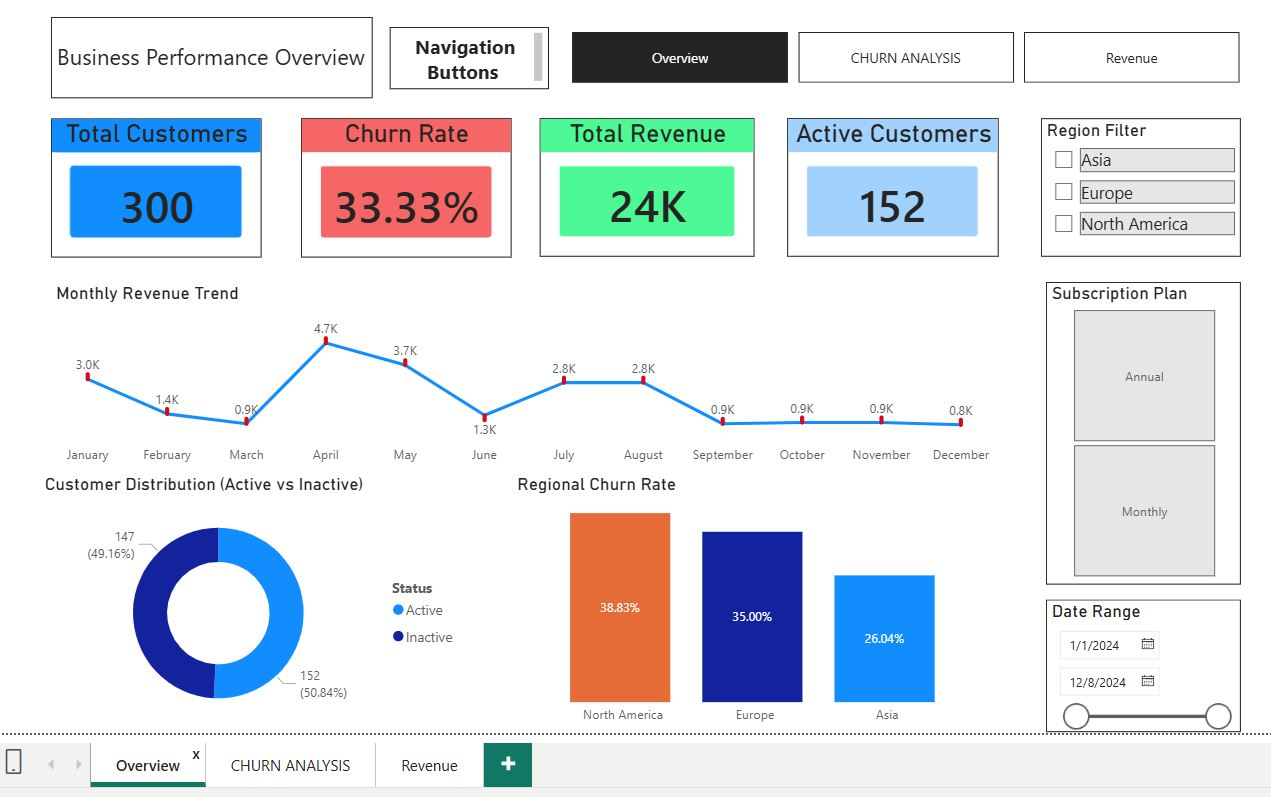

The page's visual inventory and layout, read from the dashboard file:
{"tool":"powerbi","page":{"name":"Overview","canvas":[1280,720],"ordinal":0},"visuals":[{"type":"cardVisual","title":"Total Customers","fields":{"Data":["Churn.Total Customers"]},"box":[91.9,126.2,203.1,134.5],"z":0},{"type":"cardVisual","title":"Churn Rate","fields":{"Data":["Churn.Churn Rate"]},"box":[333.4,126.2,203.1,134.5],"z":1000},{"type":"cardVisual","title":"Active Customers","fields":{"Data":["Churn.Active Customers"]},"box":[802.3,126.7,203.9,133.9],"z":2000},{"type":"lineChart","title":"Monthly Revenue Trend","fields":{"Y":["Churn.Total Revenue"],"Category":["Transactions.TransactionDate.Variation.Date Hierarchy.Month","Transactions.TransactionDate.Variation.Date Hierarchy.Year"]},"box":[91.7,285,915,185],"z":3000},{"type":"columnChart","title":"Regional Churn Rate","fields":{"Category":["Customers.Region"],"Y":["Churn.Churn Rate"],"Series":["Customers.Region"]},"box":[536.5,469.3,469.3,251.1],"z":4000},{"type":"donutChart","title":"Customer Distribution (Active vs Inactive)","fields":{"Category":["Customers.Status"],"Y":["CountNonNull(Customers.CustomerID)"]},"box":[81,469.3,413,251.1],"z":5000},{"type":"slicer","title":"Region Filter","fields":{"Values":["Customers.Region"]},"box":[1047.2,126.7,193,133.9],"z":6000},{"type":"slicer","title":"Subscription Plan","fields":{"Values":["Subscriptions.PlanType"]},"box":[1052,284.7,188.2,292],"z":7000},{"type":"textbox","box":[91.9,28.8,310.1,78.2],"z":8000},{"type":"slicer","title":"Date Range","fields":{"Values":["Transactions.TransactionDate"]},"box":[1051.7,591.7,188.3,128.3],"z":9000},{"type":"textbox","box":[418.3,38.3,153.3,60],"z":10000},{"type":"pageNavigator","box":[594.8,43.4,645.4,49.5],"z":11000},{"type":"cardVisual","title":"Total Revenue","fields":{"Data":["Churn.Total Revenue"]},"box":[563.4,126.7,207.5,133.9],"z":12000}]}

Visuals, with their boxes on the page's 1280x720 design canvas (x1, y1, x2, y2). These are canvas units, not pixel positions in the 1271x797 screenshot, which may show the page scaled, cropped or inside an application window:
"Total Customers" cardVisual: pyautogui.locateOnScreen(92, 126, 295, 261)
"Churn Rate" cardVisual: pyautogui.locateOnScreen(333, 126, 536, 261)
"Active Customers" cardVisual: pyautogui.locateOnScreen(802, 127, 1006, 261)
"Monthly Revenue Trend" lineChart: pyautogui.locateOnScreen(92, 285, 1007, 470)
"Regional Churn Rate" columnChart: pyautogui.locateOnScreen(536, 469, 1006, 720)
"Customer Distribution (Active vs Inactive)" donutChart: pyautogui.locateOnScreen(81, 469, 494, 720)
"Region Filter" slicer: pyautogui.locateOnScreen(1047, 127, 1240, 261)
"Subscription Plan" slicer: pyautogui.locateOnScreen(1052, 285, 1240, 577)
textbox: pyautogui.locateOnScreen(92, 29, 402, 107)
"Date Range" slicer: pyautogui.locateOnScreen(1052, 592, 1240, 720)
textbox: pyautogui.locateOnScreen(418, 38, 572, 98)
pageNavigator: pyautogui.locateOnScreen(595, 43, 1240, 93)
"Total Revenue" cardVisual: pyautogui.locateOnScreen(563, 127, 771, 261)
